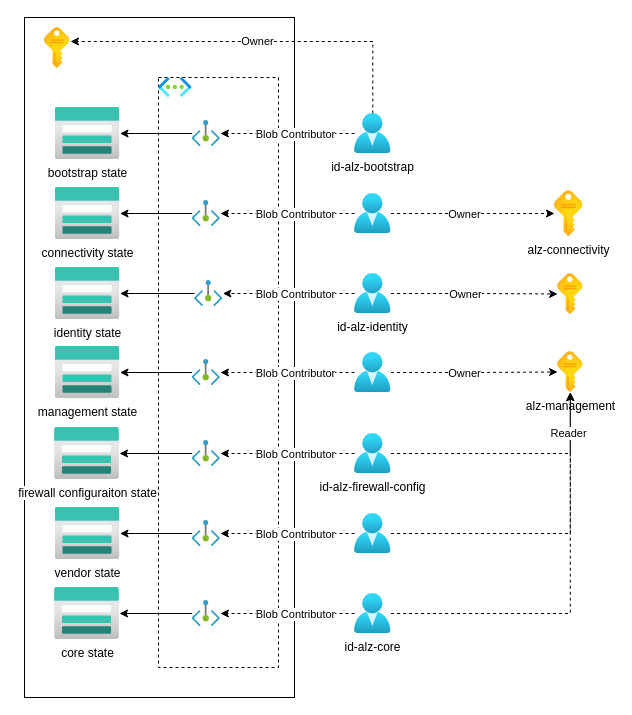
This 632x715 diagram has some shape labels left out. Each missing label, with the box of its shape:
alz-identity: (557, 273, 582, 314)
alz-state: (44, 27, 69, 68)
id-alz-connectivity: (354, 193, 391, 233)
id-alz-management: (354, 352, 391, 392)
id-alz-vendor: (354, 513, 391, 553)
